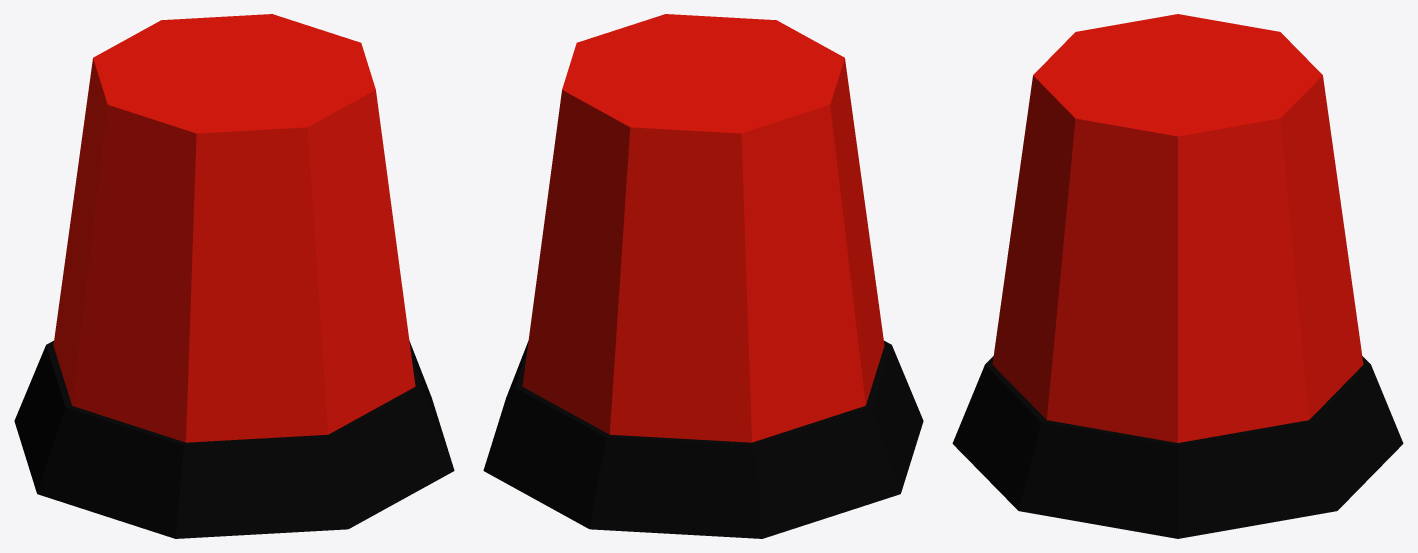
The model's file is emergencyLight.fbx.
3 renders of one model, left to right at view 1: azimuth 30°, elevation 25°; view 2: azimuth 150°, elevation 25°; view 3: azimuth 270°, elevation 25°, orthographic.
Visible parts, largest first — view 1: Cylinder; view 2: Cylinder; view 3: Cylinder.
Boxes of the visible parts, x1,y1,x2,y2 form: Cylinder: [14, 14, 454, 538]; Cylinder: [483, 14, 923, 538]; Cylinder: [952, 14, 1403, 538].
Bounding box in the file's own units: 200 × 180 × 200.
